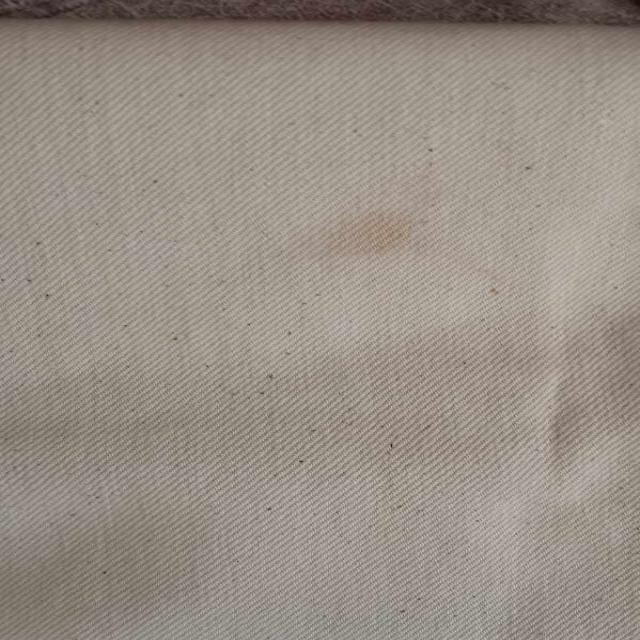taaaches: (270, 196, 487, 278)
